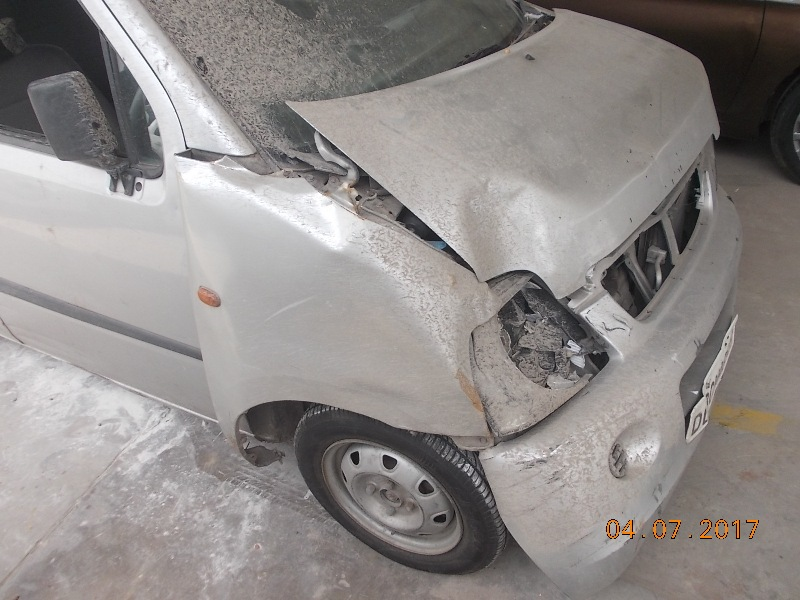Dent: (462, 186, 559, 262)
Dislocation: (278, 119, 426, 243), (185, 136, 263, 179)
